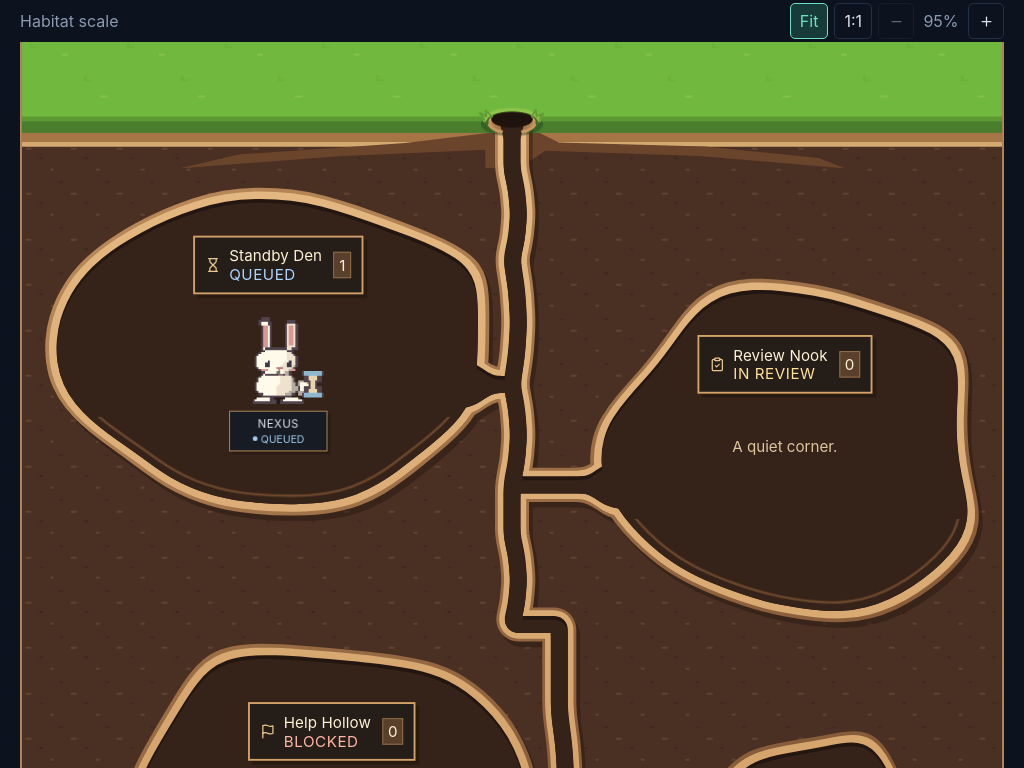
Test: shows queued work without sleeping and opens the supplied Nexus role and task details
(page scrolled)
Expected: the element with class "rabbit-queue" is shown, x1=302 y1=372 x2=324 y2=398
Click the button with aria-label "NEXUS · QUEUED" at (278, 384), box x1=218 y1=316 x2=339 y2=452
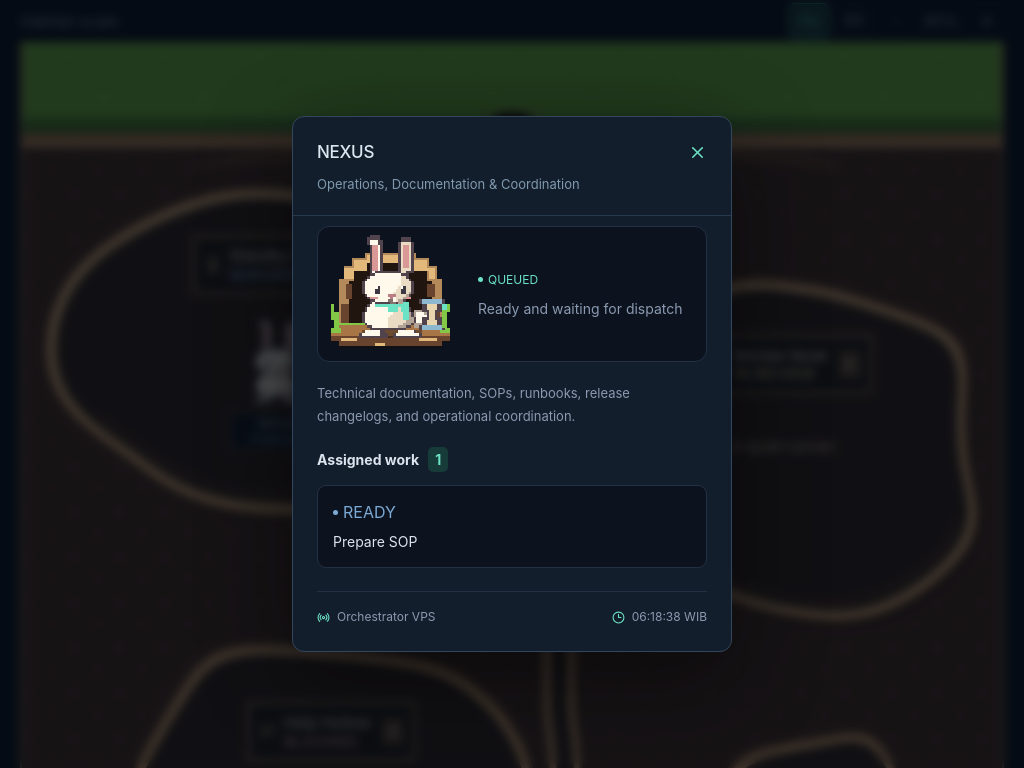
Now the text "Operations, Documentation & Coordination" is shown, box x1=317 y1=176 x2=580 y2=192
Now the text "Prepare SOP" is shown, box x1=333 y1=533 x2=418 y2=550
Now the text "READY" is shown, box x1=333 y1=502 x2=396 y2=522
